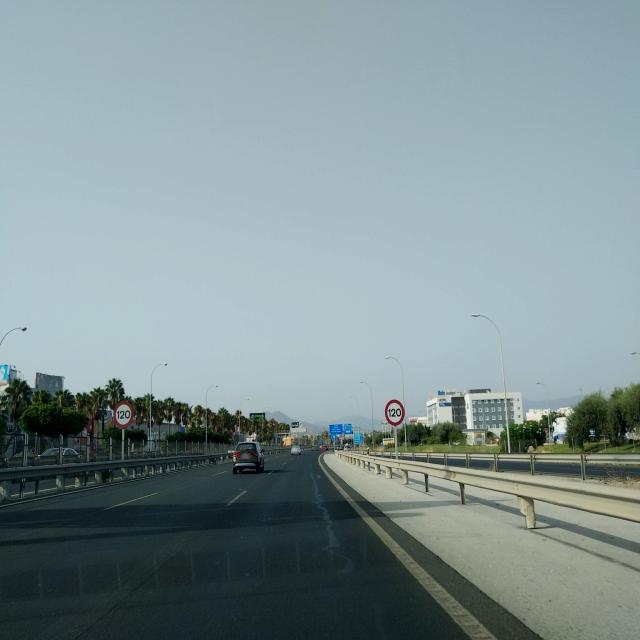car: (232, 440, 266, 474), (37, 446, 79, 459), (290, 445, 302, 456)
